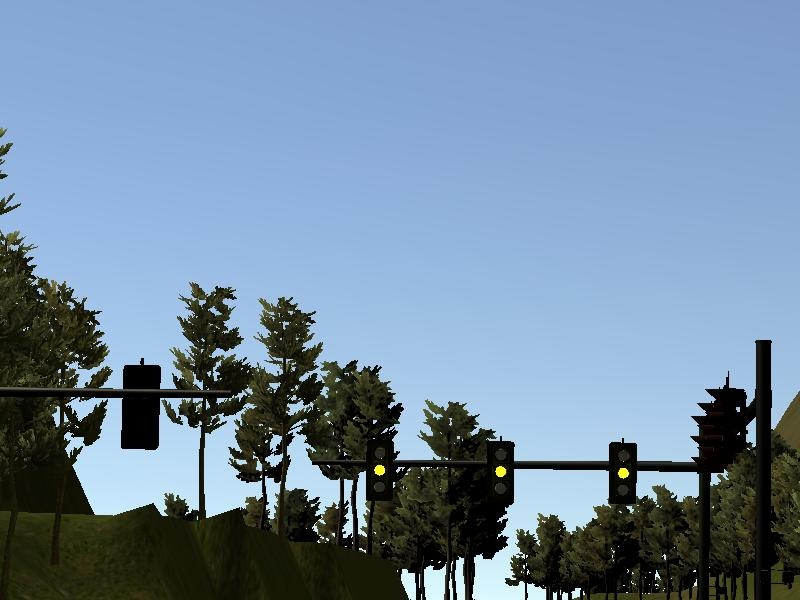yellow: (605, 436, 642, 511), (360, 431, 395, 505), (483, 434, 517, 509)
